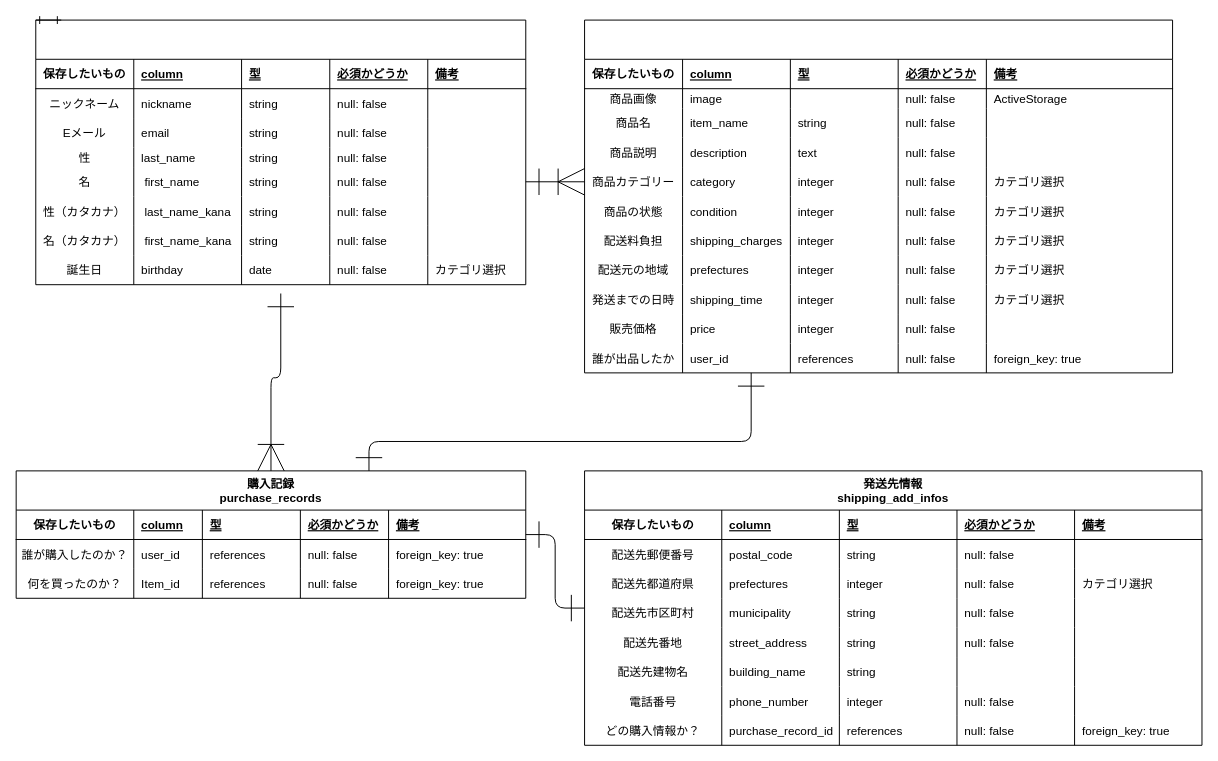
The diagram is 1218 pixels wide and 761 high, and some of its shapes have lost their labels. Here are the shapes that lost their labels. From the top down, the box of each, then its label:
(35, 19, 526, 285): ユーザー情報 users
(584, 19, 1173, 373): 商品情報 items
